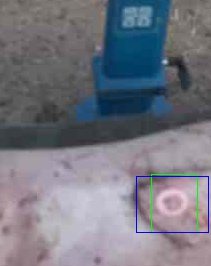text: (151, 174, 197, 232)
